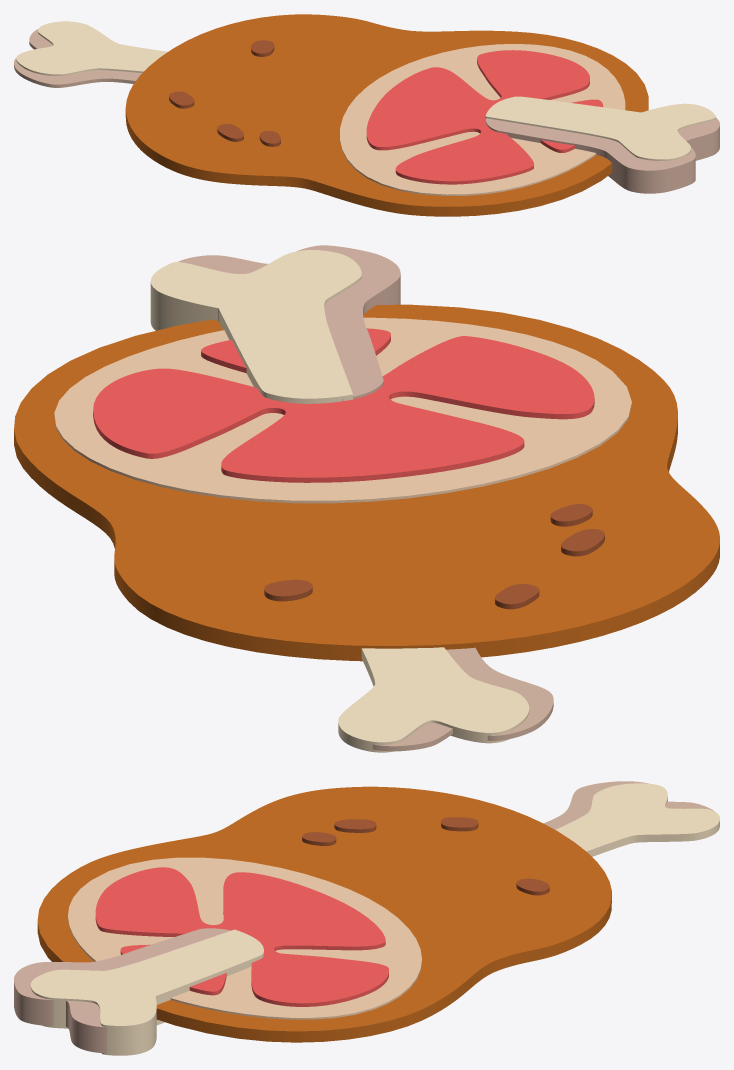
Rendered from emoji_u1f356.glb.
The picture shows the model from 3 angles, top to bottom: view 1: azimuth 30°, elevation 25°; view 2: azimuth 150°, elevation 25°; view 3: azimuth 270°, elevation 25°; orthographic projection. The views are drawn at different scales.
Visible parts, largest first — view 1: emoji_u1f356; view 2: emoji_u1f356; view 3: emoji_u1f356.
Part boxes in pixels (box(x1,y1,x2,y2)): emoji_u1f356: box(14, 14, 719, 216); emoji_u1f356: box(14, 245, 719, 752); emoji_u1f356: box(14, 781, 719, 1055).
Size of the model in its own units: 0.0297 by 0.0016 by 0.0344.
